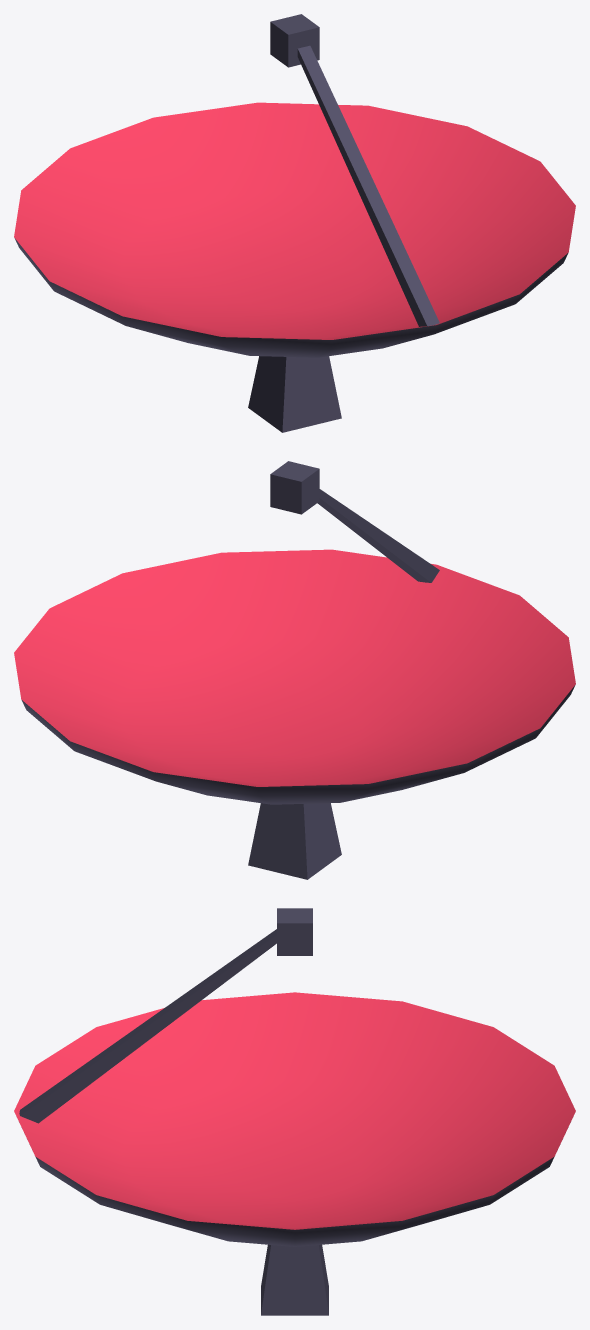
Rendered from CbpProps B.fbx.
3 views of the same model, one above another, from view 1: azimuth 30°, elevation 25°; view 2: azimuth 150°, elevation 25°; view 3: azimuth 270°, elevation 25° (orthographic).
Visible parts, largest first — view 1: CbpPropsB; view 2: CbpPropsB; view 3: CbpPropsB.
Boxes of the visible parts, x1,y1,x2,y2 form: CbpPropsB: (14, 14, 575, 432); CbpPropsB: (14, 461, 575, 879); CbpPropsB: (14, 908, 575, 1315).
Size of the model in its own units: 2.56 by 1.94 by 2.56.
